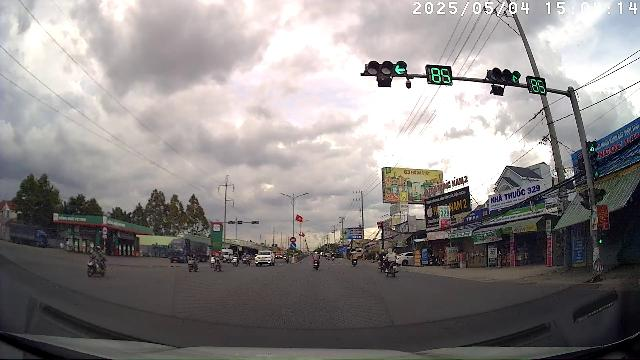102-cam-di-nguoc-chieu: (290, 236, 297, 243)
302a-huong-phai-di-vong-chuong-ngai-vat-1: (290, 243, 297, 249)
